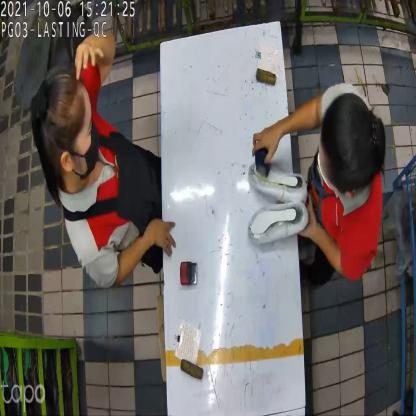stamp: (252, 146, 272, 179), (179, 258, 197, 288)
